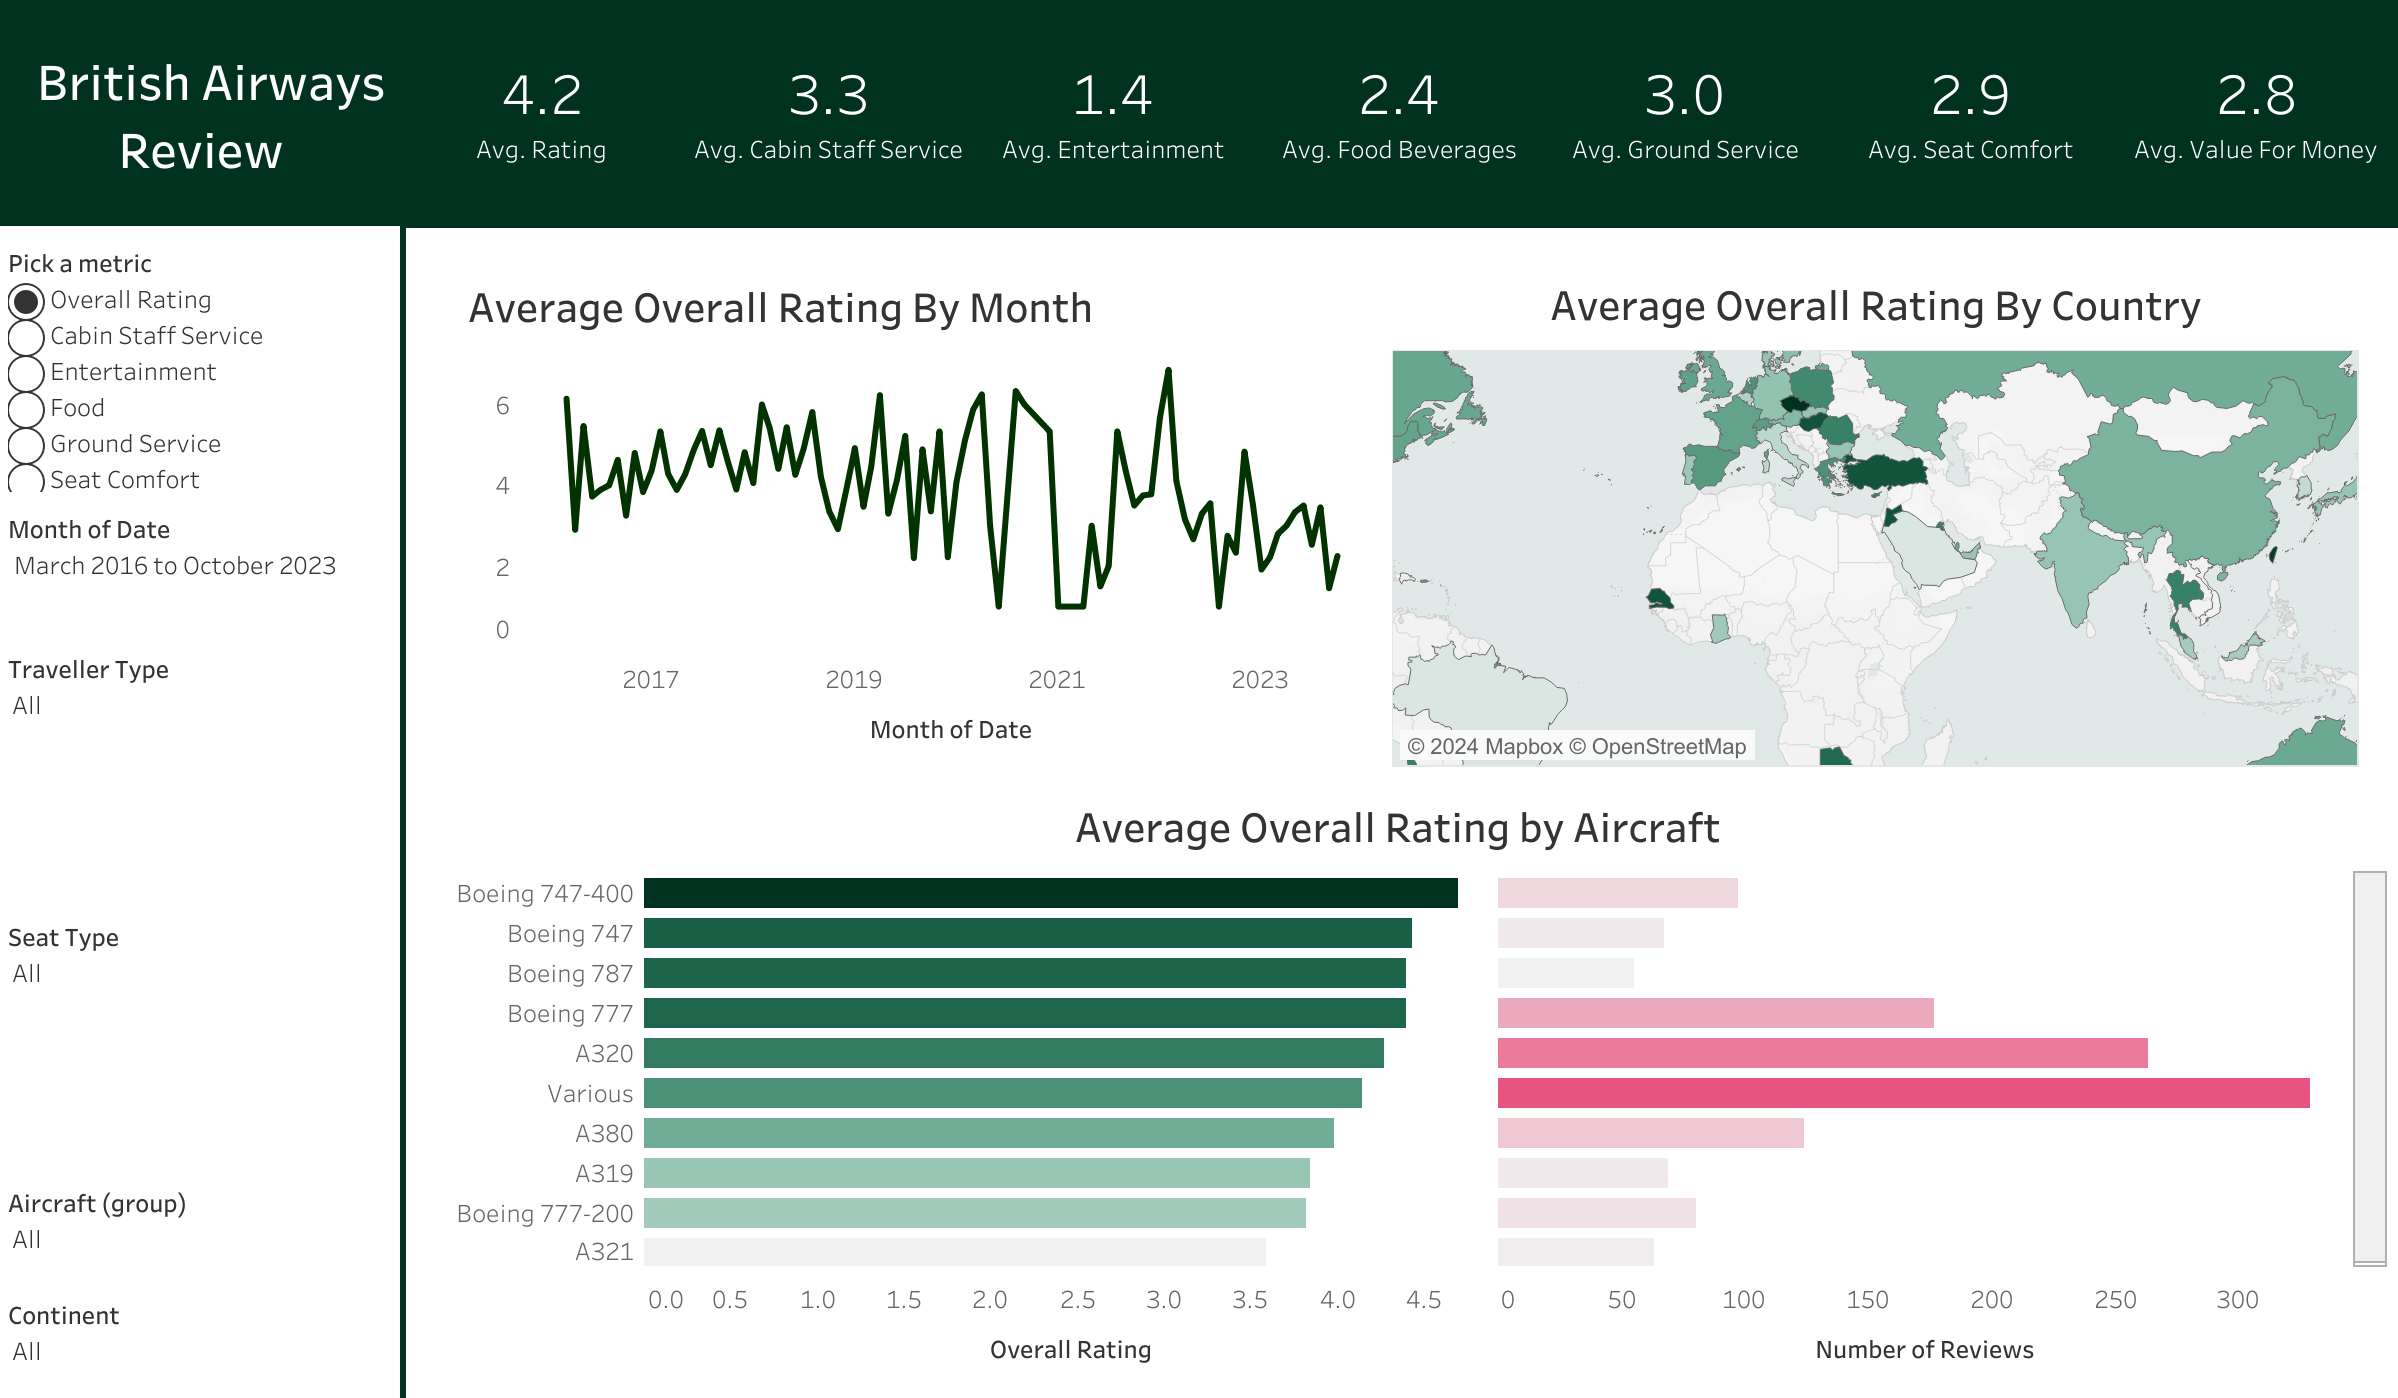

The dashboard page shown, as its layout file describes it:
{"tool":"tableau","page":{"name":"Dashboard 1","canvas":[1200,700],"ordinal":0},"visuals":[{"type":"text","box":[0,0,201,113]},{"type":"blank","box":[200,113,3,586]},{"type":"parameter","param":"[Parameters].[Parameter 1]","box":[0,117,200,141]},{"type":"worksheet","title":"Map","mark":"Automatic","box":[696,132,484,252]},{"type":"worksheet","title":"Sheet 4","mark":"Automatic","rows":["Calculation_5264919126845849600"],"cols":["date"],"box":[230,133,459,247]},{"type":"filter","title":"Map","param":"[federated.00cbutf05oe2371b2s5br0zb5j29].[tmn:date:qk]","box":[0,258,200,69]},{"type":"filter","title":"Map","param":"[federated.00cbutf05oe2371b2s5br0zb5j29].[none:traveller_type:nk]","box":[0,327,200,141]},{"type":"worksheet","title":"Sheet 5","mark":"Automatic","cols":["Calculation_5264919126845849600","ba_reviews.csv_4BBFE59385664C20915AFD2B7D32F31E"],"box":[222,393,972,297]},{"type":"filter","title":"Map","param":"[federated.00cbutf05oe2371b2s5br0zb5j29].[none:seat_type:nk]","box":[0,468,200,127]},{"type":"filter","title":"Map","param":"[federated.00cbutf05oe2371b2s5br0zb5j29].[Aircraft (group)]","box":[0,595,200,52]},{"type":"filter","title":"Map","param":"[federated.00cbutf05oe2371b2s5br0zb5j29].[none:Continent:nk]","box":[0,647,200,52]}]}

Visuals, with their boxes in screenshot pixels (x1, y1, x2, y2), scaled from the page's 1200x700 canvas onto the 2398x1398 screenshot:
text: (0,0,402,226)
blank: (400,226,406,1396)
parameter: (0,234,400,515)
"Map" worksheet: (1391,264,2358,767)
"Sheet 4" worksheet: (460,266,1377,759)
"Map" filter: (0,515,400,653)
"Map" filter: (0,653,400,935)
"Sheet 5" worksheet: (444,785,2386,1378)
"Map" filter: (0,935,400,1188)
"Map" filter: (0,1188,400,1292)
"Map" filter: (0,1292,400,1396)
